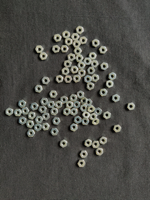nut: (76, 26, 84, 35), (71, 33, 80, 41), (99, 46, 108, 54), (68, 53, 76, 62), (87, 67, 96, 75), (106, 80, 114, 89), (26, 120, 35, 128), (77, 160, 86, 168), (63, 31, 71, 39), (54, 34, 62, 42), (80, 37, 88, 45), (65, 38, 73, 46), (61, 45, 69, 53), (36, 45, 44, 53), (40, 52, 48, 60), (52, 45, 60, 53), (89, 52, 97, 60), (64, 60, 72, 68), (91, 60, 99, 68), (101, 63, 109, 71), (109, 73, 117, 81), (78, 70, 86, 78), (71, 66, 79, 74), (62, 68, 70, 76), (92, 74, 100, 82), (73, 75, 81, 83), (56, 75, 64, 83), (87, 83, 95, 91), (100, 89, 108, 97), (128, 103, 136, 111), (42, 77, 50, 85), (35, 85, 43, 93), (77, 91, 85, 99), (70, 94, 78, 102), (73, 101, 81, 109), (88, 105, 96, 113), (94, 108, 102, 116), (104, 112, 112, 120), (114, 125, 122, 133), (18, 100, 26, 108), (14, 109, 22, 117), (31, 103, 39, 111), (41, 98, 49, 106), (39, 106, 47, 114), (51, 108, 59, 116), (28, 112, 36, 120), (19, 117, 27, 125), (35, 116, 43, 124), (42, 113, 50, 121), (34, 124, 42, 132), (42, 123, 50, 131), (51, 128, 59, 136), (90, 113, 98, 121), (74, 116, 82, 124), (70, 124, 78, 132), (60, 140, 68, 148), (92, 141, 100, 149), (100, 137, 108, 145), (96, 148, 104, 156), (80, 151, 88, 159), (93, 39, 100, 48), (85, 75, 92, 84), (64, 76, 73, 83), (113, 94, 120, 103), (21, 108, 30, 115), (82, 112, 91, 119), (85, 139, 92, 148), (73, 41, 81, 48), (74, 48, 82, 55), (76, 55, 84, 62), (84, 58, 92, 65), (78, 62, 86, 69), (50, 91, 58, 98), (81, 97, 88, 105), (86, 99, 93, 107), (66, 101, 73, 109), (61, 96, 68, 104), (80, 105, 88, 112), (6, 108, 13, 116), (55, 101, 62, 109), (47, 101, 55, 108), (64, 108, 71, 116), (71, 108, 78, 116), (27, 130, 35, 137), (53, 118, 61, 125), (92, 118, 100, 125), (82, 118, 90, 125)
